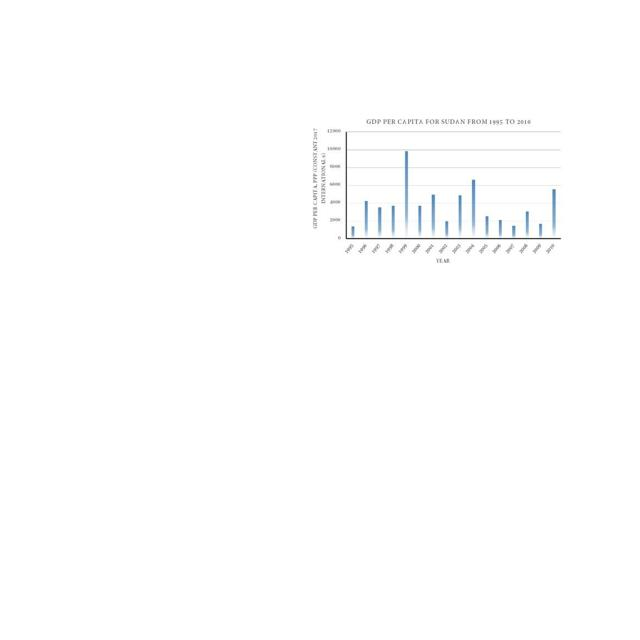Graph: (308, 114, 565, 266)
